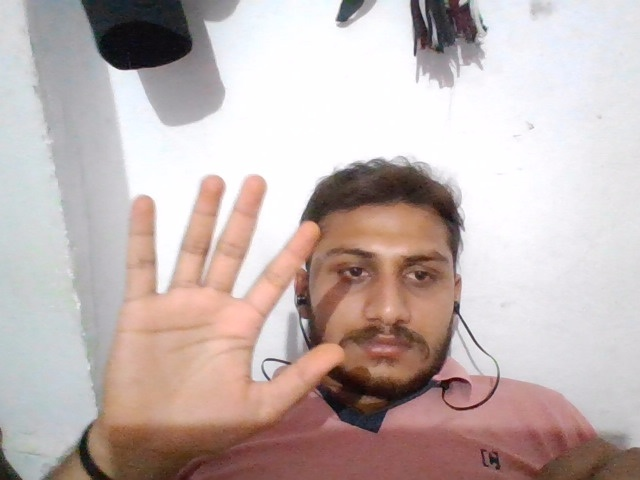Hello: (92, 158, 355, 450)
